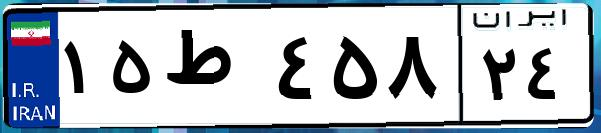1: (57, 26, 110, 100)
2: (475, 38, 525, 113)
4: (270, 28, 330, 110), (525, 38, 570, 115)
5: (330, 28, 385, 110), (110, 28, 158, 98)
8: (385, 28, 445, 110)
ط: (158, 20, 270, 120)
